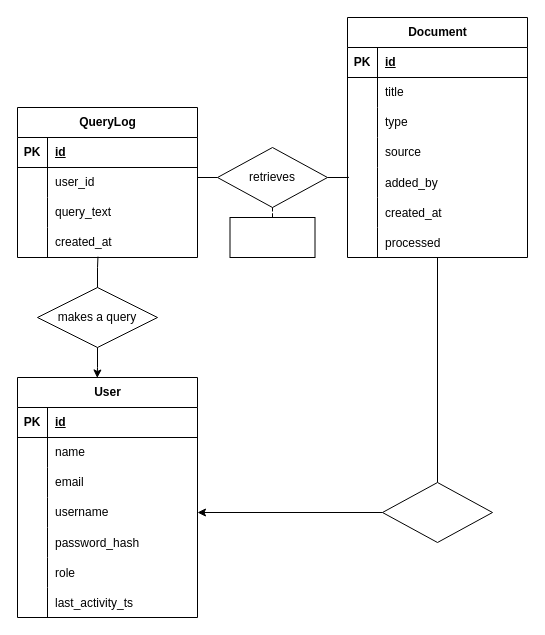
This 545x635 diagram has some shape labels left out. The centre of each missing label's shape, as x and y in pixels:
"adds" belongs at point (437, 512).
"QueryRetrieval (query_id, document_id)" belongs at point (272, 237).
